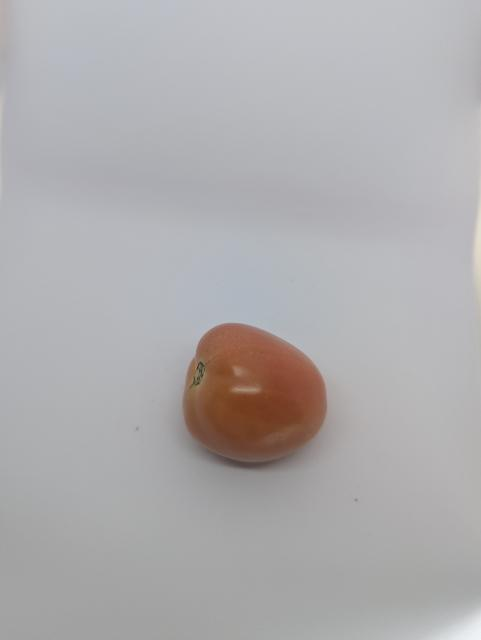turning: (176, 318, 333, 468)
